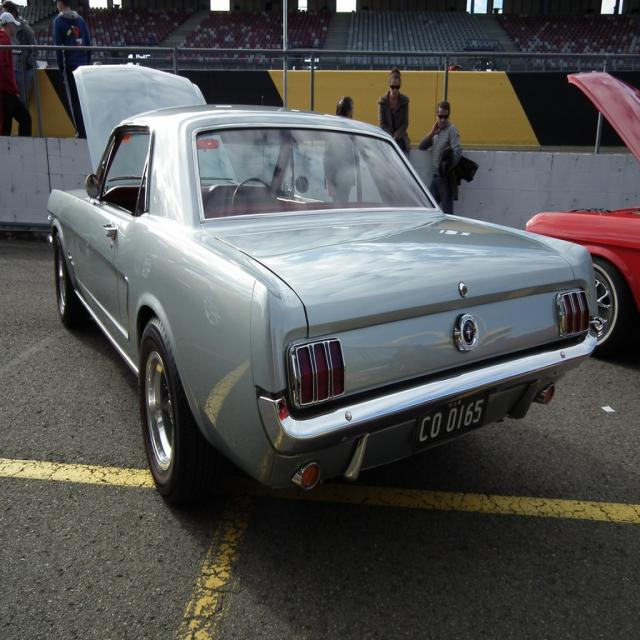car: (45, 65, 603, 503)
